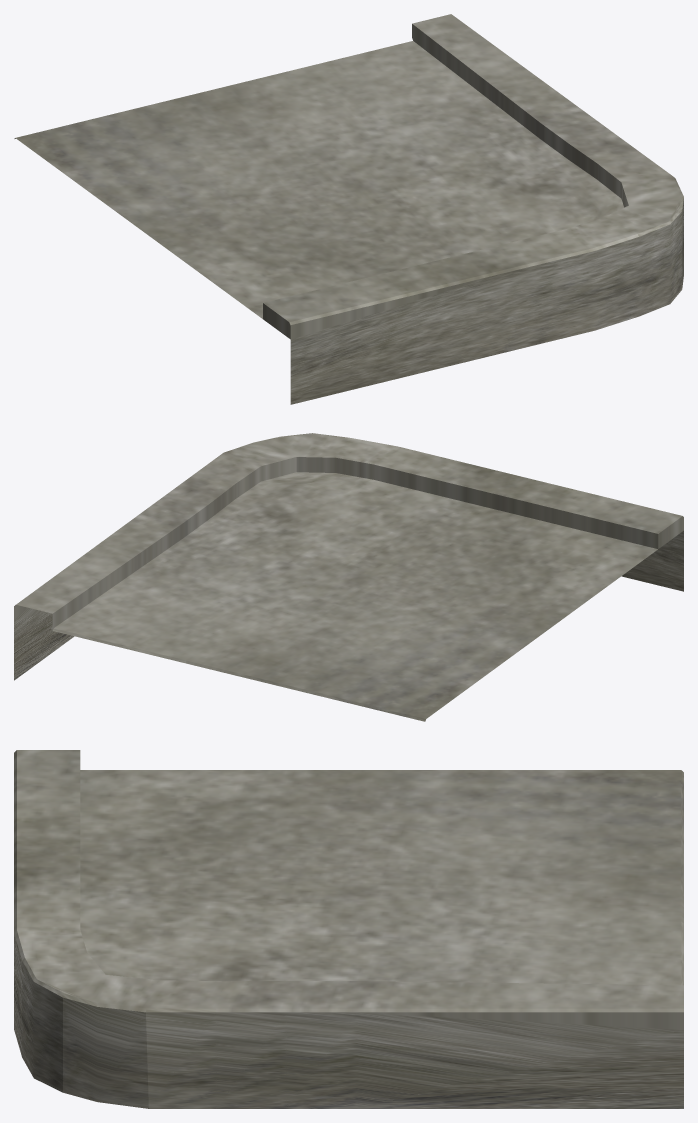
File: sidewalk_corner.fbx
3 renders of one model, top to bottom at view 1: azimuth 30°, elevation 25°; view 2: azimuth 150°, elevation 25°; view 3: azimuth 270°, elevation 25°, orthographic. The views are drawn at different scales.
Visible parts, largest first — view 1: pCube3; view 2: pCube3; view 3: pCube3.
Boxes of the visible parts, x1,y1,x2,y2 form: pCube3: (14,14,683,404); pCube3: (14,433,683,721); pCube3: (14,750,683,1108).
Bounding box in the file's own units: 14 × 2.52 × 15.26.
